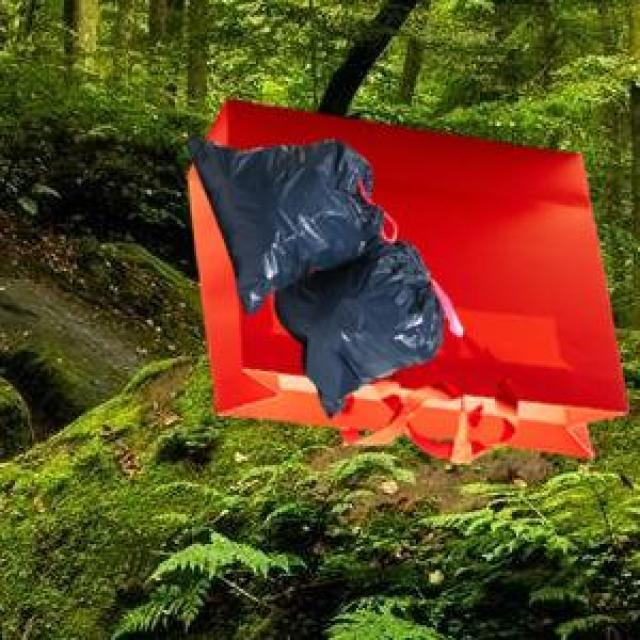miscellaneous trash: (182, 134, 459, 414)
paper: (184, 96, 625, 459)
